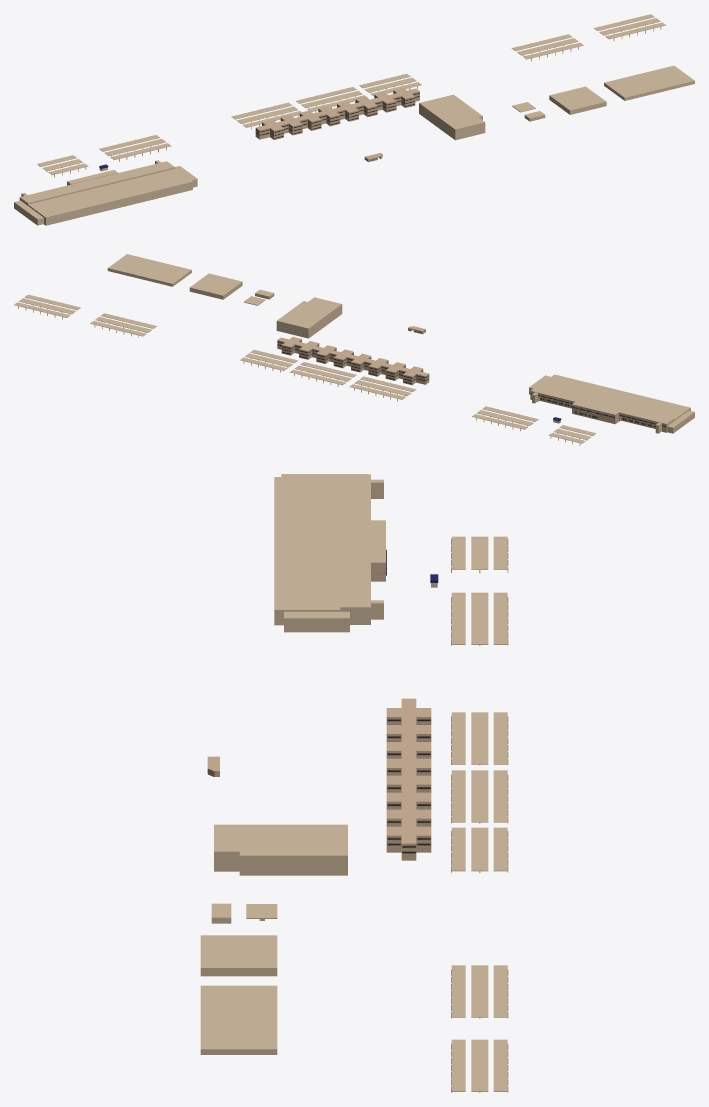
Rendered from oerk-cargo-offices.gltf.
3 renders of one model, top to bottom at view 1: azimuth 30°, elevation 25°; view 2: azimuth 150°, elevation 25°; view 3: azimuth 270°, elevation 25°, orthographic. The views are drawn at different scales.
Visible parts, largest first — view 1: Cube.080, Cube.063, Cube.062, Cube.004, Cube.078, Cube.003, Cube.032, Cube.017, Cube.021, Cube.013, Cube.005, Cube.009 (+2 smaller); view 2: Cube.063, Cube.080, Cube.062, Cube.078, Cube.004, Cube.003, Cube.079, Cube.032, Cube.017, Cube.009, Cube.013, Cube.021 (+2 smaller); view 3: Cube.080, Cube.063, Cube.062, Cube.004, Cube.078, Cube.003, Cube.032, Cube.017, Cube.009, Cube.005, Cube.021, Cube.013 (+8 smaller).
Part boxes in pixels (x1=…): Cube.080: x1=27, y1=168, x2=192, y2=225; Cube.063: x1=255, y1=87, x2=419, y2=139; Cube.062: x1=419, y1=94, x2=485, y2=140; Cube.004: x1=604, y1=65, x2=694, y2=100; Cube.078: x1=19, y1=161, x2=175, y2=204; Cube.003: x1=549, y1=86, x2=606, y2=114; Cube.032: x1=37, y1=155, x2=88, y2=177; Cube.017: x1=511, y1=34, x2=583, y2=59; Cube.021: x1=594, y1=14, x2=666, y2=39; Cube.013: x1=99, y1=135, x2=171, y2=159; Cube.005: x1=231, y1=102, x2=301, y2=127; Cube.009: x1=296, y1=87, x2=367, y2=111; Cube.063: x1=277, y1=337, x2=429, y2=385; Cube.080: x1=539, y1=374, x2=690, y2=421; Cube.062: x1=276, y1=297, x2=342, y2=338; Cube.078: x1=530, y1=385, x2=674, y2=432; Cube.004: x1=107, y1=254, x2=191, y2=286; Cube.003: x1=189, y1=273, x2=242, y2=299; Cube.079: x1=572, y1=401, x2=618, y2=424; Cube.032: x1=549, y1=425, x2=595, y2=445; Cube.017: x1=90, y1=313, x2=156, y2=336; Cube.009: x1=290, y1=362, x2=356, y2=385; Cube.013: x1=472, y1=406, x2=538, y2=429; Cube.021: x1=14, y1=294, x2=80, y2=317; Cube.080: x1=274, y1=477, x2=340, y2=625; Cube.063: x1=386, y1=698, x2=431, y2=860; Cube.062: x1=214, y1=824, x2=347, y2=875; Cube.004: x1=200, y1=985, x2=277, y2=1054; Cube.078: x1=340, y1=474, x2=370, y2=624; Cube.003: x1=200, y1=935, x2=277, y2=976; Cube.032: x1=451, y1=536, x2=508, y2=573; Cube.017: x1=451, y1=965, x2=507, y2=1017; Cube.009: x1=451, y1=770, x2=507, y2=822; Cube.005: x1=451, y1=712, x2=507, y2=764; Cube.021: x1=451, y1=1039, x2=507, y2=1091; Cube.013: x1=451, y1=592, x2=507, y2=644.
Bounding box in the file's own units: 1111 × 20.6 × 237.
9 materials, 5 textured.
